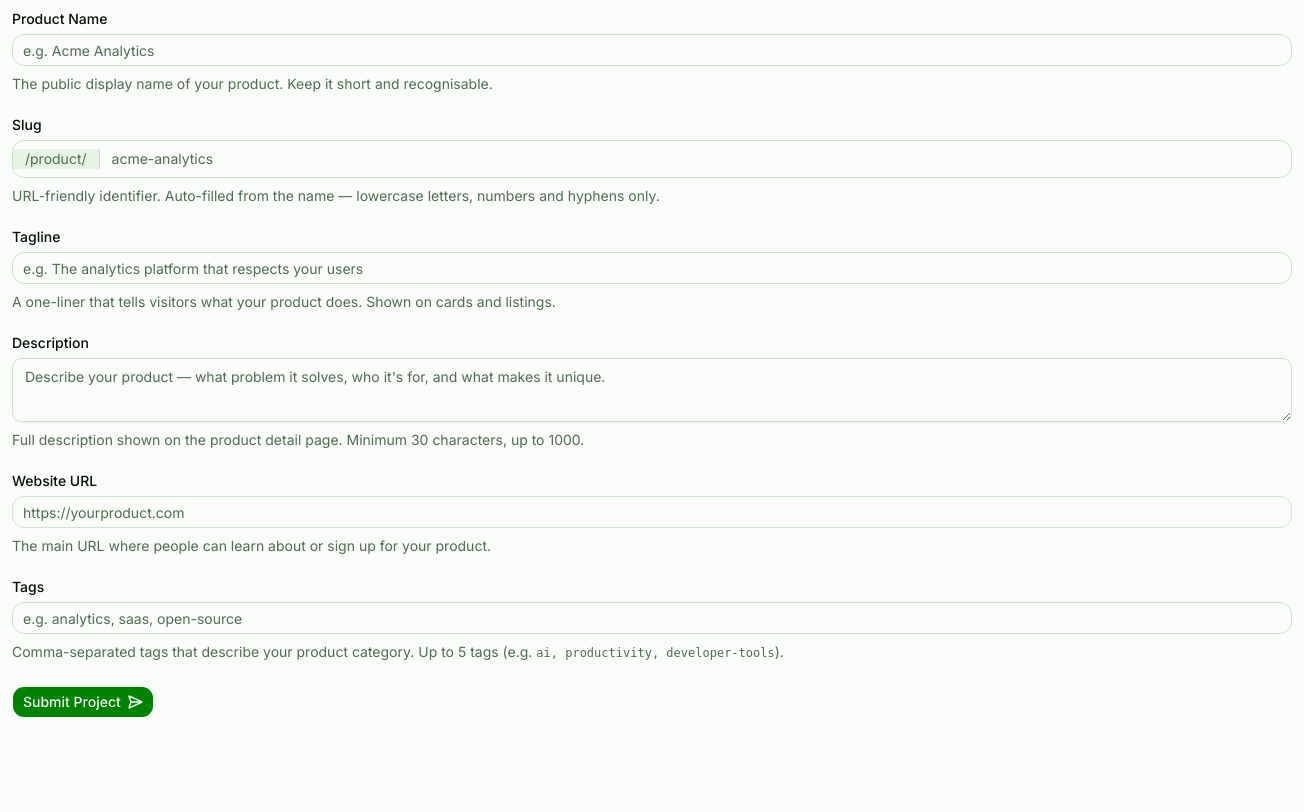
SubmitProductForm › auto-fills slug from product name
// Use fireEvent.change to fire a single change with the full value
Step 1. Type "My Cool App" into the field with placeholder "e.g. Acme Analytics" → (652, 50), box [12,34,1292,66]
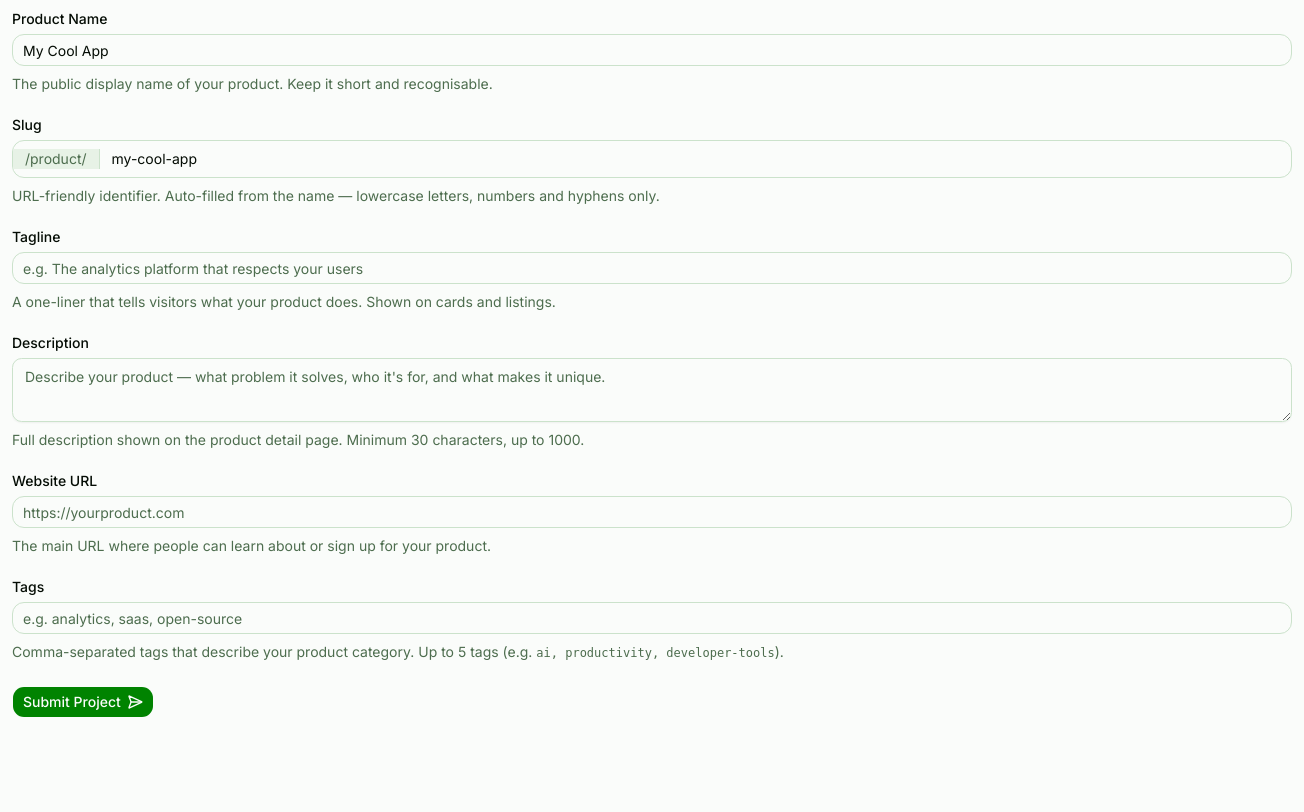
Check: the field with placeholder "acme-analytics" next to "/product/" holds "my-cool-app", box [100,141,1291,177]
